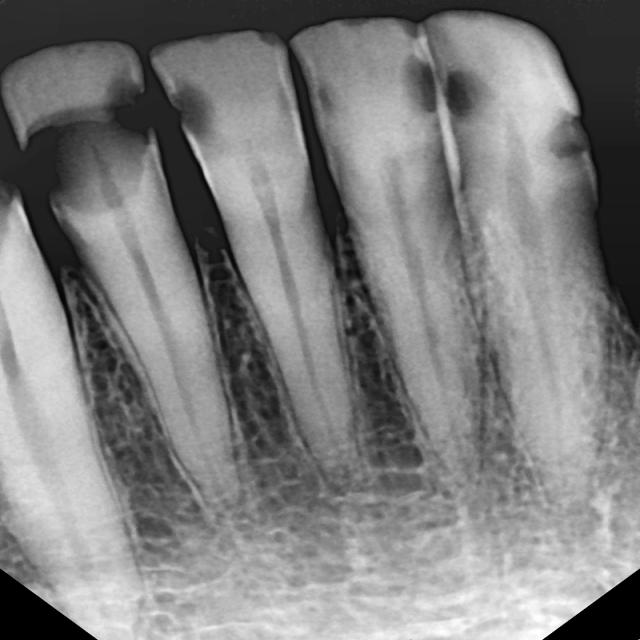Caries: (14, 75, 216, 214), (396, 56, 494, 126), (540, 104, 614, 172)
